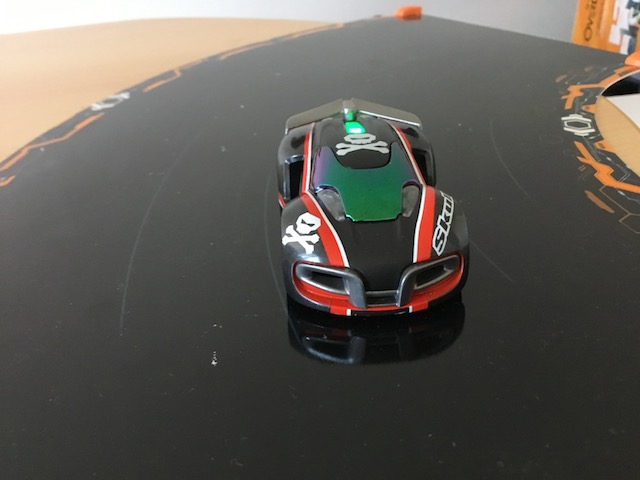car-red: (273, 94, 474, 331)
